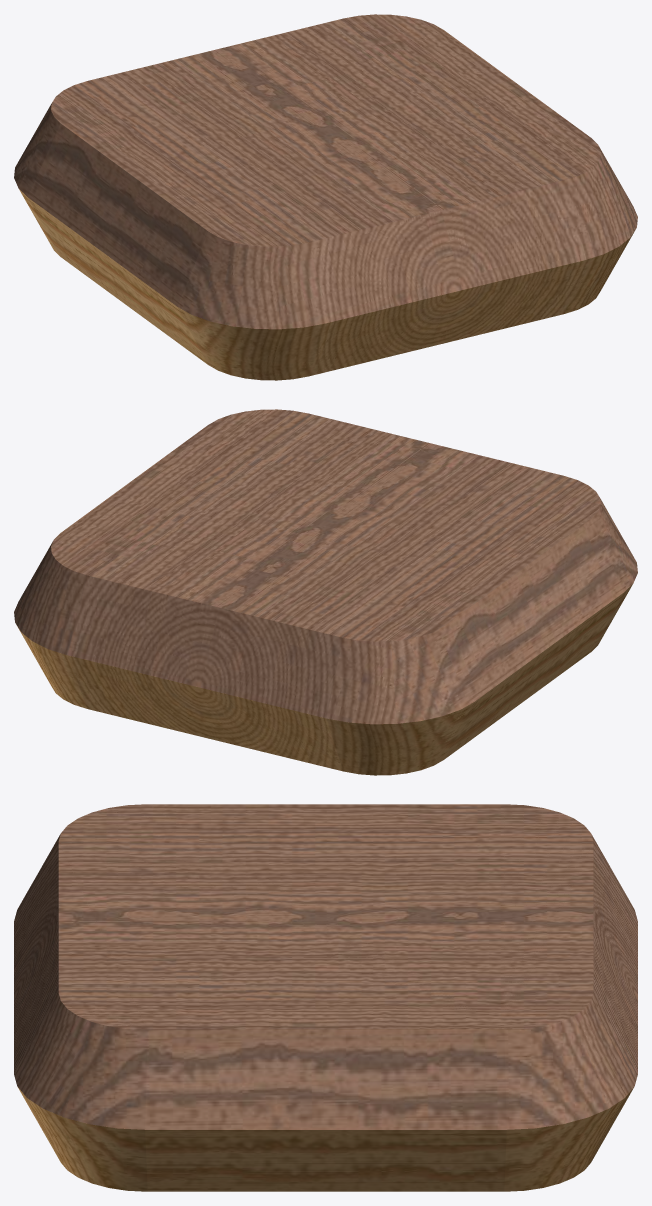
The model's file is lesson 10 dve.glb.
3 views of the same model, one above another, from view 1: azimuth 30°, elevation 25°; view 2: azimuth 150°, elevation 25°; view 3: azimuth 270°, elevation 25° (orthographic). The views are drawn at different scales.
Visible parts, largest first — view 1: Rectangle1, Rectangle0; view 2: Rectangle1, Rectangle0; view 3: Rectangle1, Rectangle0.
Boxes of the visible parts, x1,y1,x2,y2 form: Rectangle1: (14,14,637,329); Rectangle0: (19,189,634,380); Rectangle1: (14,409,637,724); Rectangle0: (17,584,632,775); Rectangle1: (14,804,637,1129); Rectangle0: (18,1087,633,1191).
Size of the model in its own units: 0.07 by 0.02 by 0.07.
2 materials, 2 textured.
